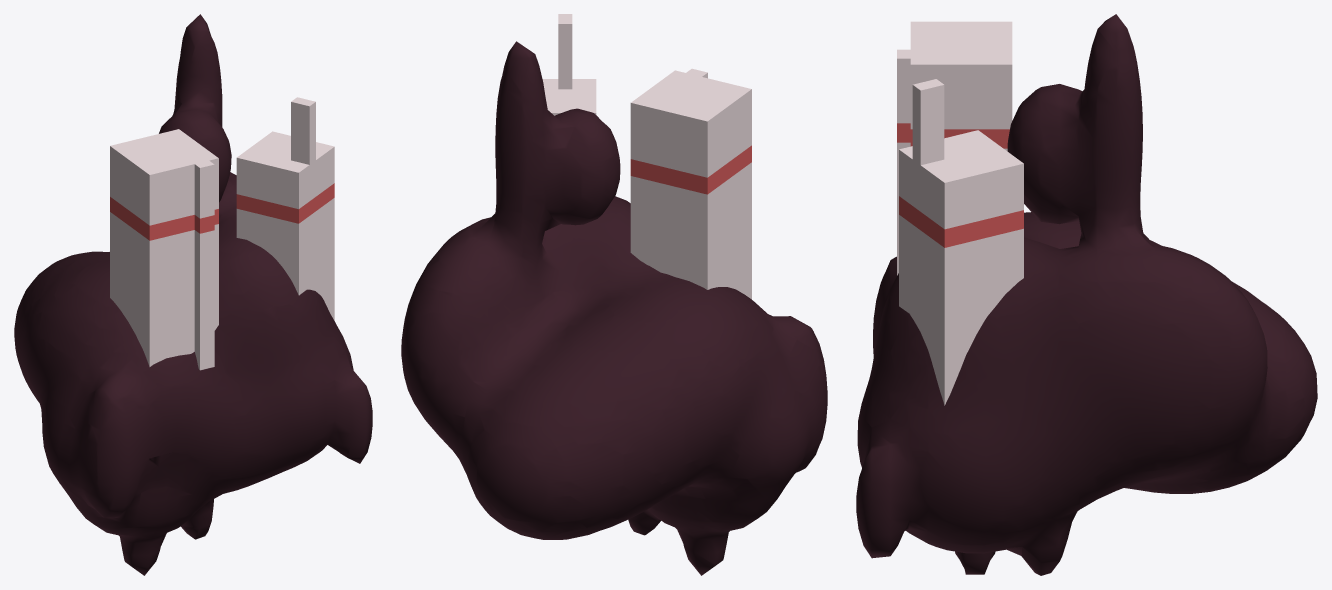
Rendered from island.glb.
3 renders of one model, left to right at view 1: azimuth 30°, elevation 25°; view 2: azimuth 150°, elevation 25°; view 3: azimuth 270°, elevation 25°, orthographic. The views are drawn at different scales.
Visible parts, largest first — view 1: Cube.023; view 2: Cube.023; view 3: Cube.023.
Part boxes in pixels (box(x1,y1,x2,y2)): Cube.023: box(14, 14, 372, 575); Cube.023: box(401, 14, 827, 575); Cube.023: box(856, 14, 1317, 575).
Size of the model in its own units: 30.78 by 50.25 by 33.55.
Materials: 1 (1 with a texture image).
